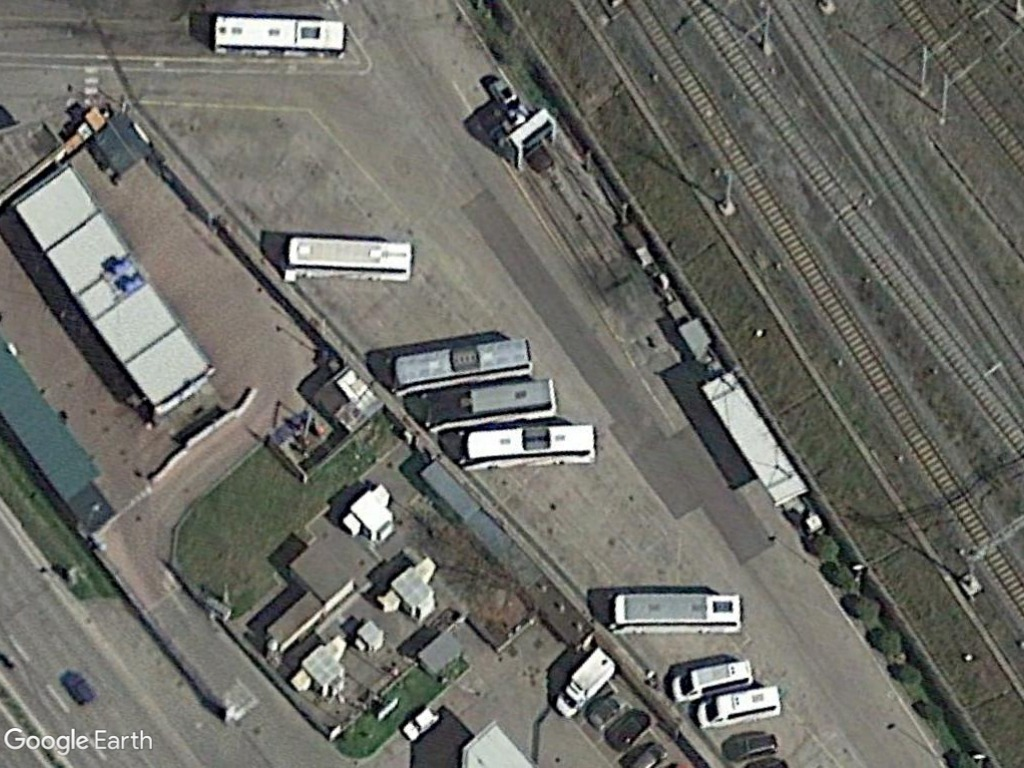bus: (388, 332, 537, 397), (443, 415, 599, 475), (411, 374, 557, 433), (601, 582, 747, 639), (278, 230, 416, 286), (210, 10, 352, 61)
car: (398, 705, 444, 743)
van: (540, 637, 618, 722), (692, 681, 784, 730), (668, 655, 753, 706)
